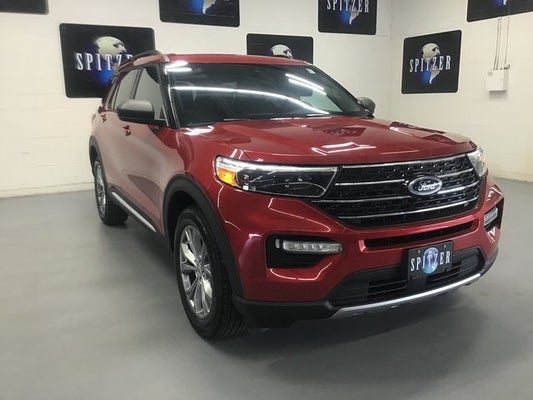Ford Explorer: (89, 52, 504, 341)
